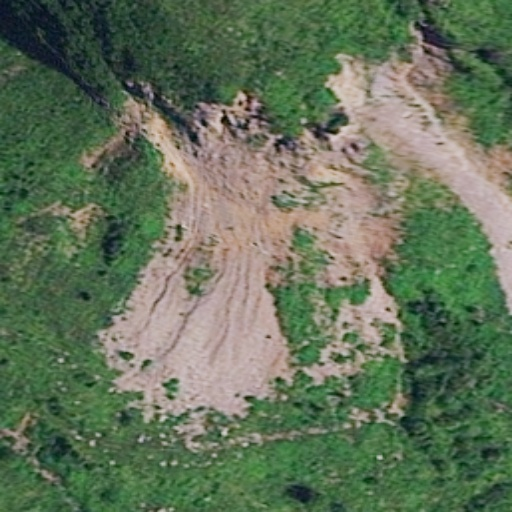landslide: (110, 80, 460, 418)
